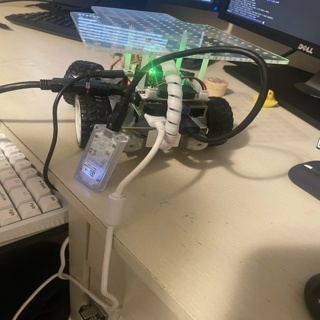vehicle: (69, 3, 289, 168)
